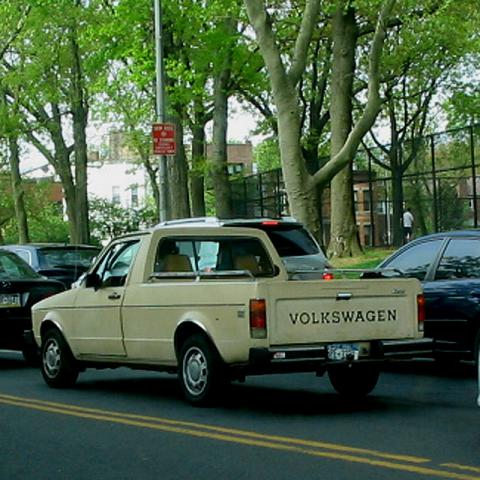car: (358, 230, 480, 364), (154, 216, 332, 272), (4, 249, 65, 364), (0, 242, 105, 289)
truck: (31, 215, 435, 407)
